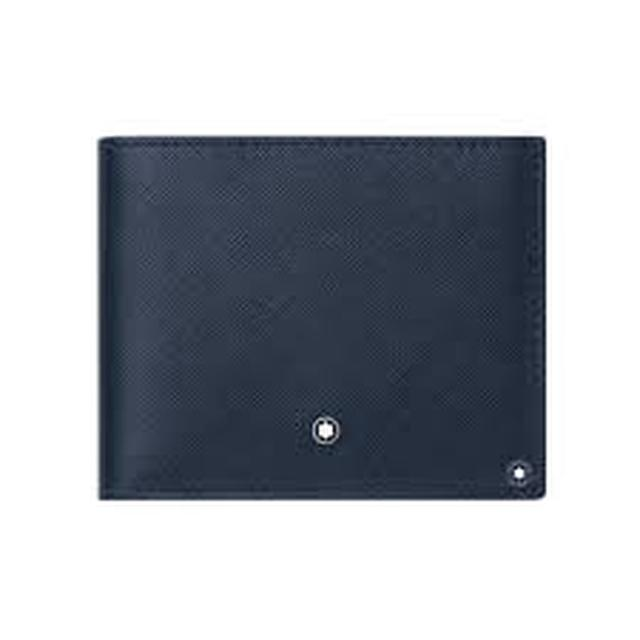wallet: (66, 130, 564, 514)
